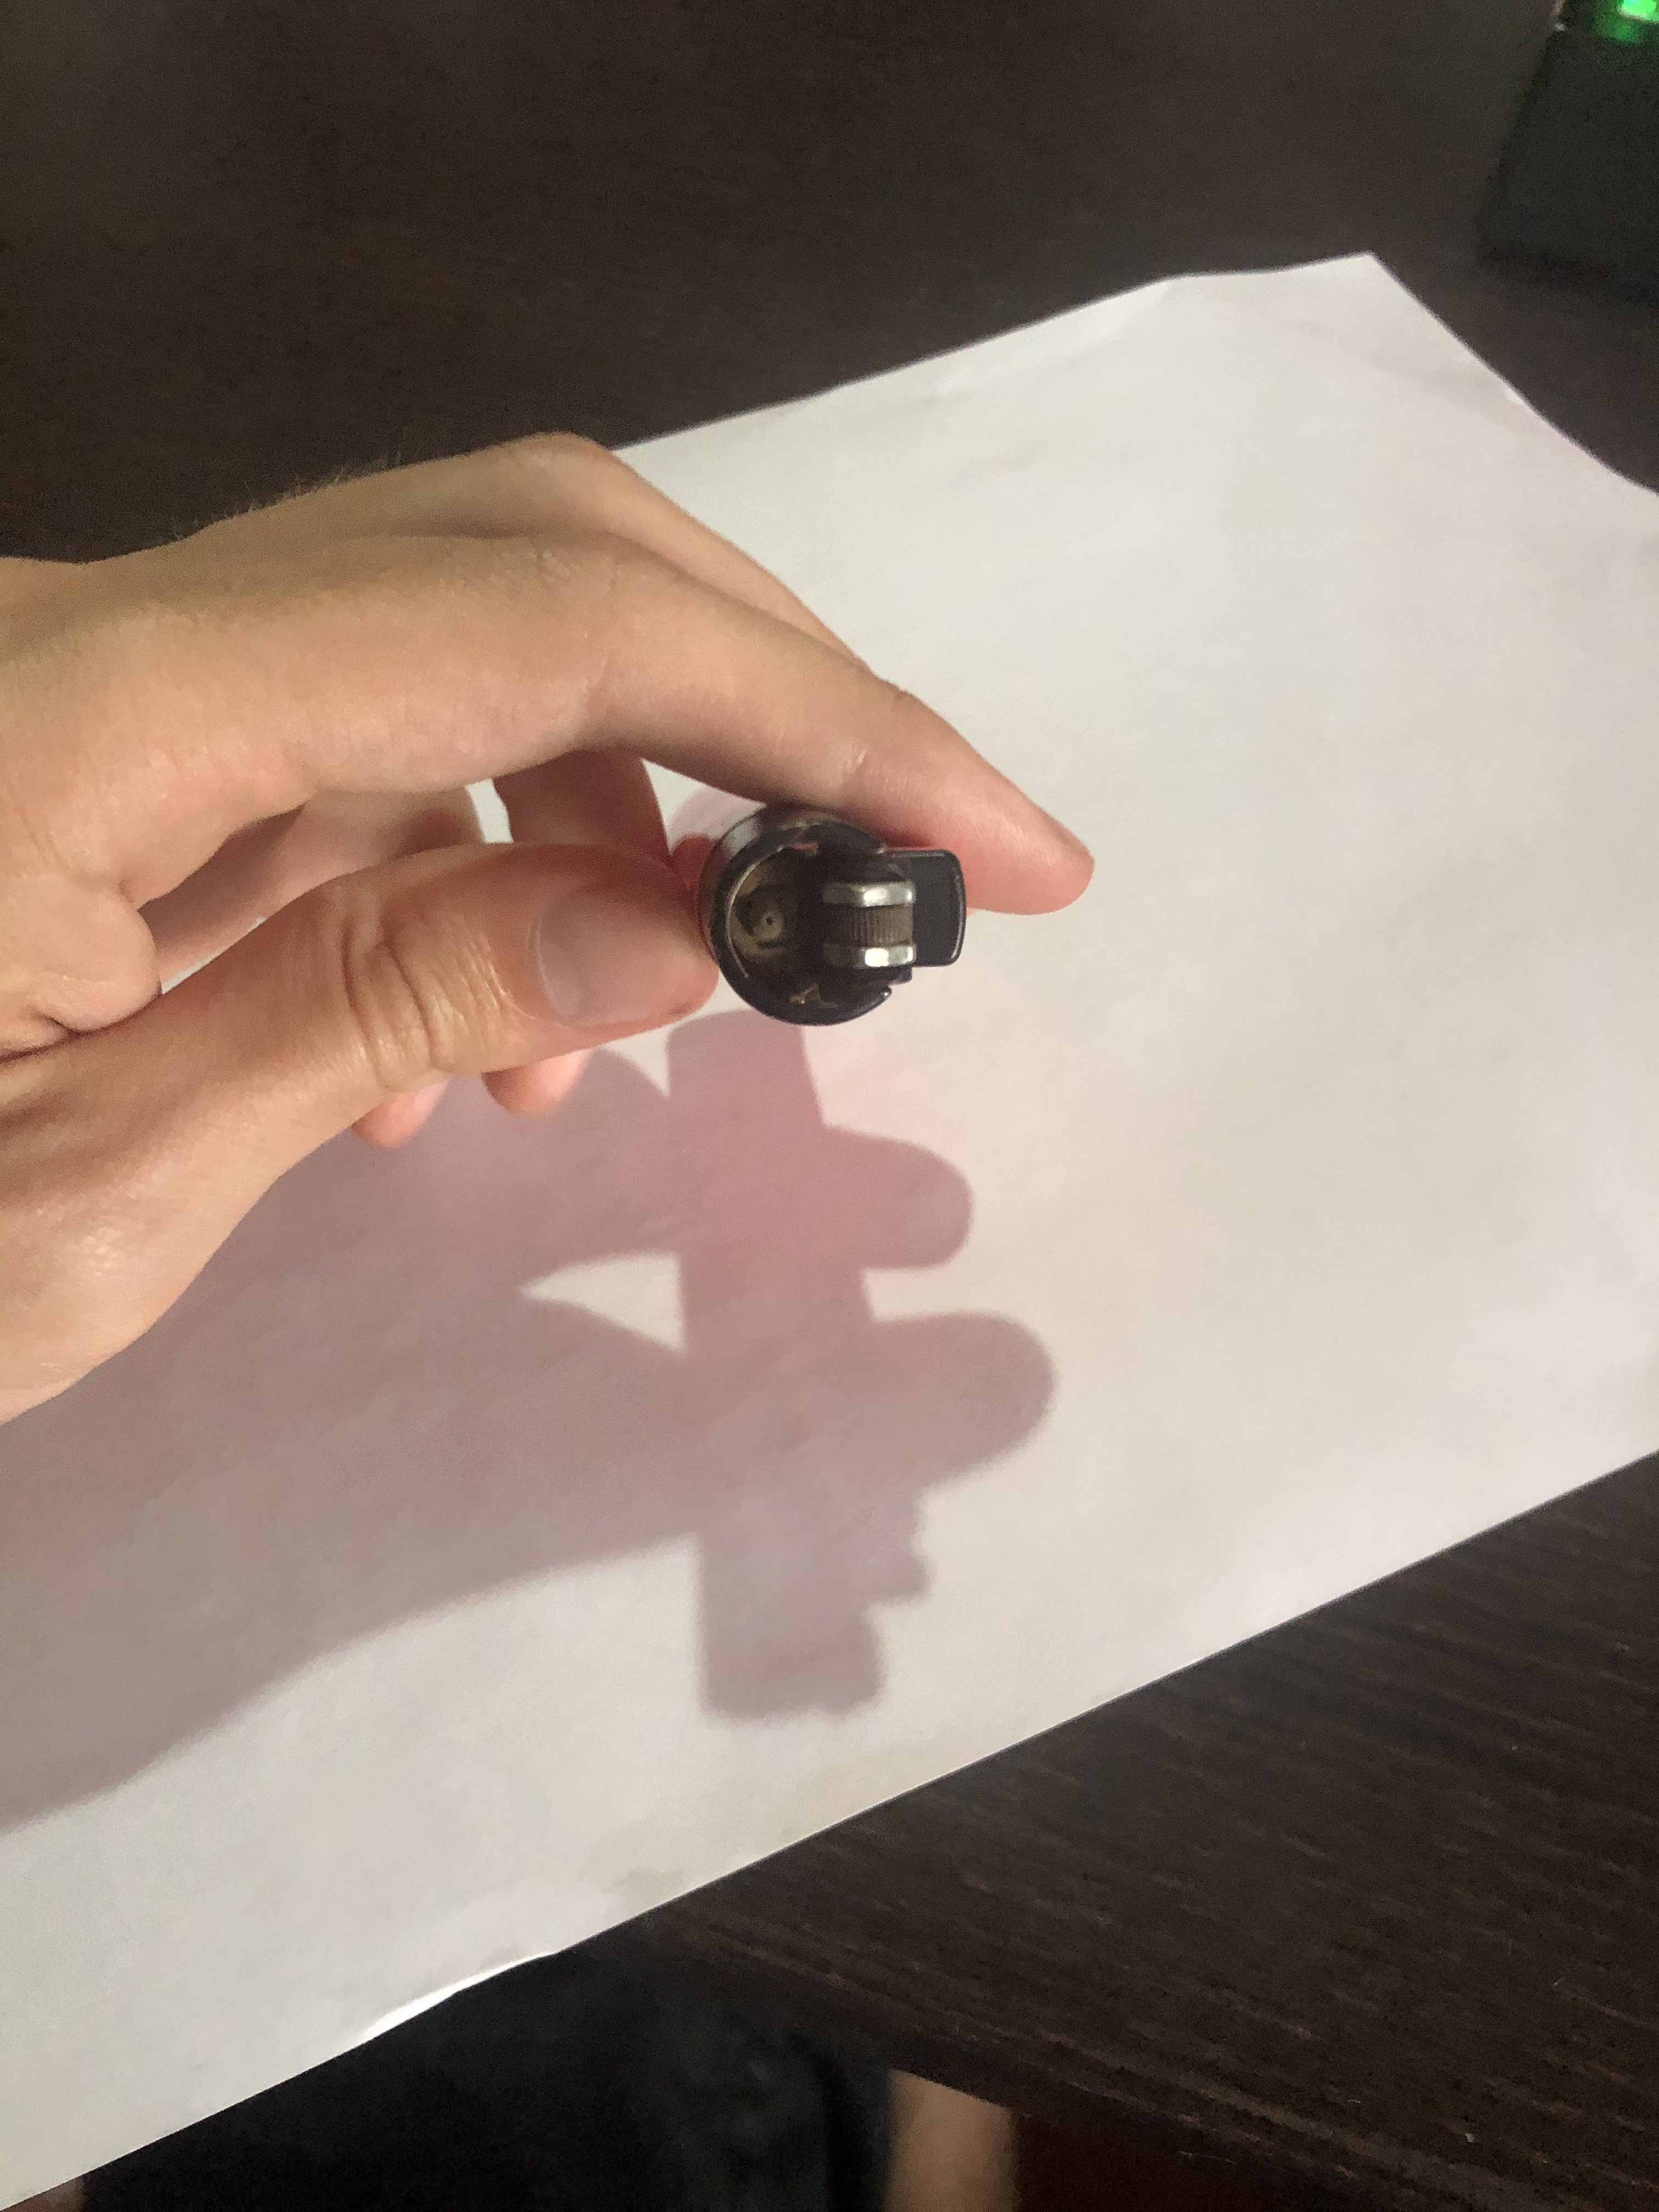Mechero: (653, 770, 1019, 1061)
